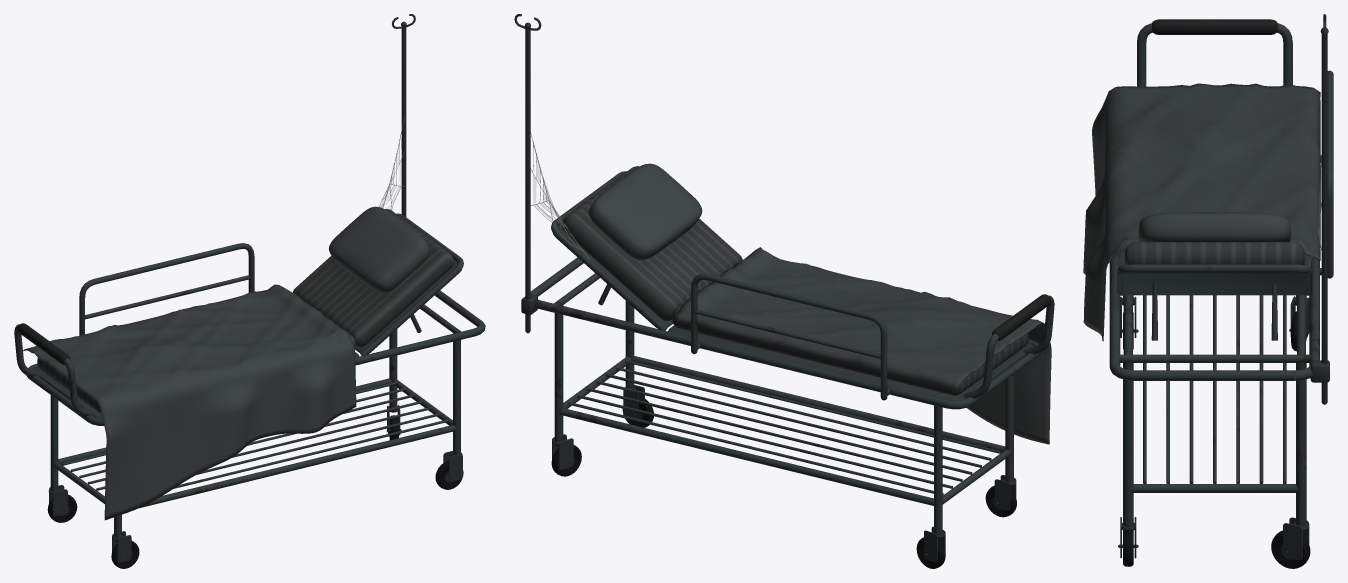
File: hospital-gurney.glb
The picture shows the model from 3 angles, left to right: view 1: azimuth 30°, elevation 25°; view 2: azimuth 150°, elevation 25°; view 3: azimuth 270°, elevation 25°; orthographic projection. The views are drawn at different scales.
Parts seen in each view (by area): view 1: hospital-gurney_body; view 2: hospital-gurney_body, hospital-gurney_web; view 3: hospital-gurney_body, hospital-gurney_web.
Boxes of the visible parts, x1=… form: hospital-gurney_body: x1=14, y1=14, x2=485, y2=568; hospital-gurney_body: x1=514, y1=14, x2=1054, y2=568; hospital-gurney_web: x1=530, y1=132, x2=589, y2=259; hospital-gurney_body: x1=1083, y1=14, x2=1333, y2=568; hospital-gurney_web: x1=1308, y1=154, x2=1321, y2=267.
Size of the model in its own units: 1.97 by 1.87 by 0.7522.
3 materials, 1 textured.
